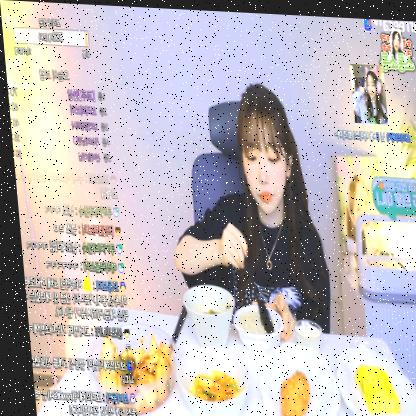donation: (326, 57, 409, 142)
streamer: (156, 75, 329, 327)
